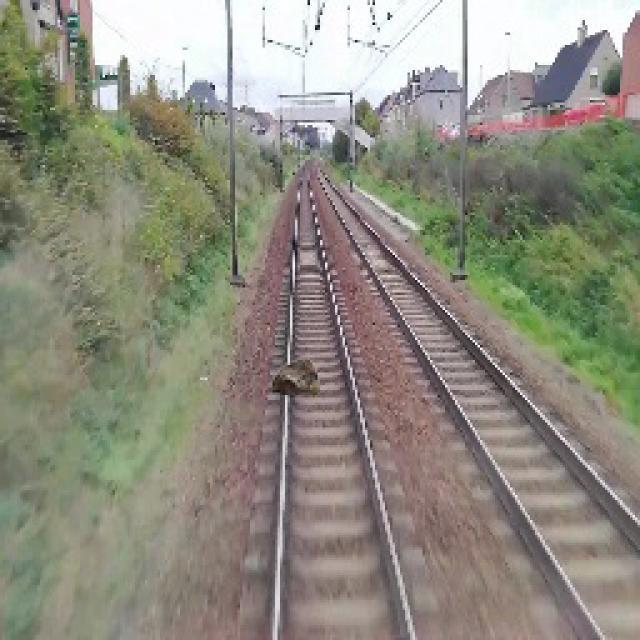rail: (236, 157, 452, 640)
